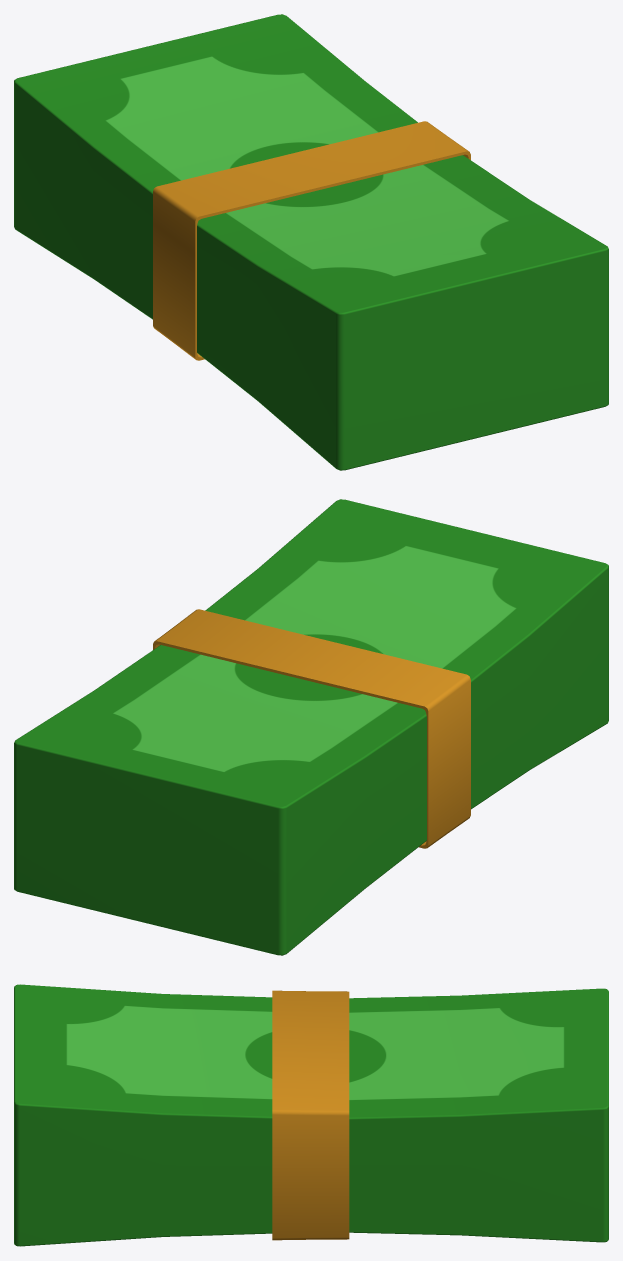
3 views of the same model, one above another, from view 1: azimuth 30°, elevation 25°; view 2: azimuth 150°, elevation 25°; view 3: azimuth 270°, elevation 25° (orthographic). The views are drawn at different scales.
Visible parts, largest first — view 1: Money; view 2: Money; view 3: Money.
Part boxes in pixels (bbox=[...]): Money: bbox=[14, 14, 608, 470]; Money: bbox=[14, 499, 608, 955]; Money: bbox=[14, 984, 608, 1246].
Size of the model in its own units: 2.98 by 1.63 by 6.14.
1 material, 1 textured.
